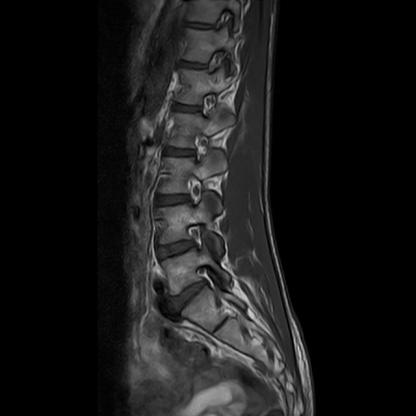Degenerative Disc Diseaserotation: (165, 283, 211, 307)
Disc Bulgerotation: (165, 283, 211, 307)
